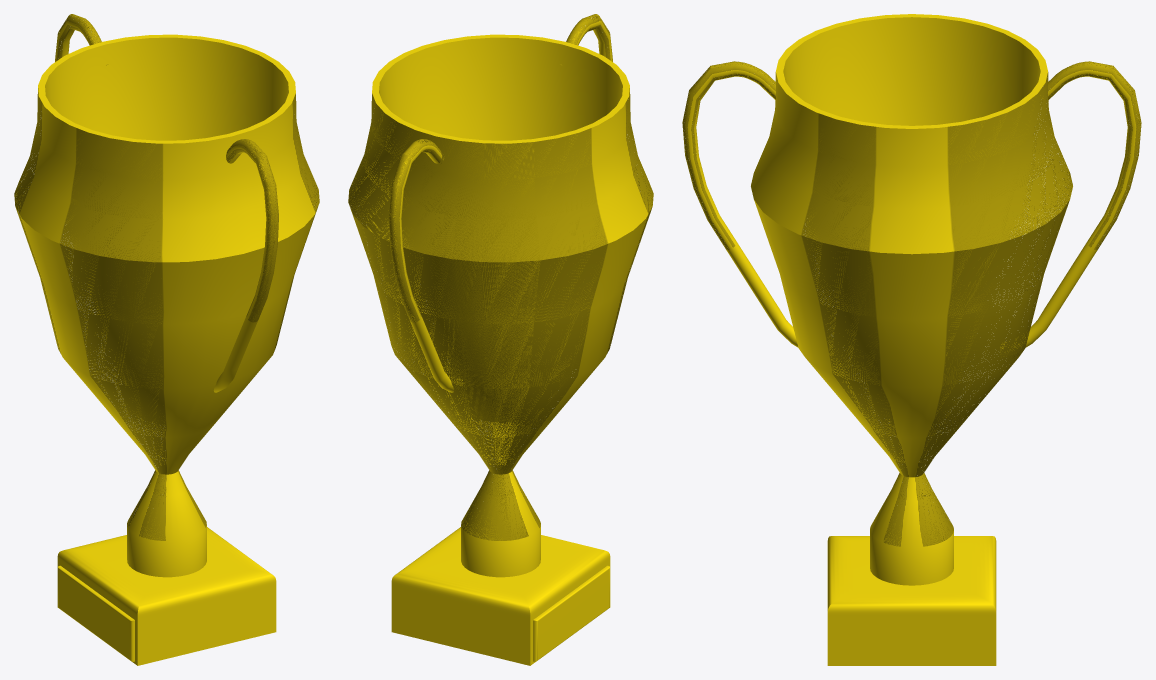
The model's file is Trophy_Gold-Esaie_.fbx.
The picture shows the model from 3 angles, left to right: view 1: azimuth 30°, elevation 25°; view 2: azimuth 150°, elevation 25°; view 3: azimuth 270°, elevation 25°; orthographic projection. The views are drawn at different scales.
Visible parts, largest first — view 1: Trophy_Gold; view 2: Trophy_Gold; view 3: Trophy_Gold.
Boxes of the visible parts, x1,y1,x2,y2 form: Trophy_Gold: (14,14,319,665); Trophy_Gold: (348,14,653,665); Trophy_Gold: (682,14,1141,665).
Bounding box in the file's own units: 765 × 1489 × 1090.
1 material, 1 textured.
